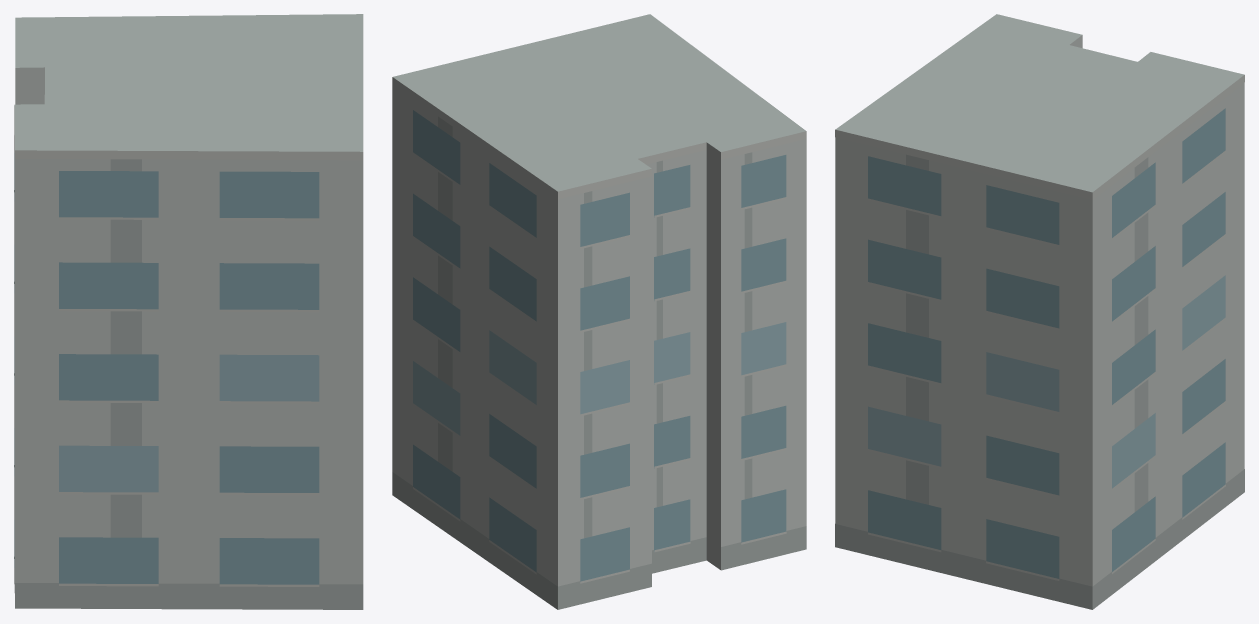
Rendered from survey-upis-32885333.glb.
3 renders of one model, left to right at view 1: azimuth 30°, elevation 25°; view 2: azimuth 150°, elevation 25°; view 3: azimuth 270°, elevation 25°, orthographic. The views are drawn at different scales.
Visible parts, largest first — view 1: survey-upis-32885333.tmp; view 2: survey-upis-32885333.tmp; view 3: survey-upis-32885333.tmp.
Boxes of the visible parts, x1,y1,x2,y2 form: survey-upis-32885333.tmp: (14,14,363,609); survey-upis-32885333.tmp: (392,14,806,609); survey-upis-32885333.tmp: (835,14,1244,609).
Size of the model in its own units: 12.1 by 13.2 by 11.74.
